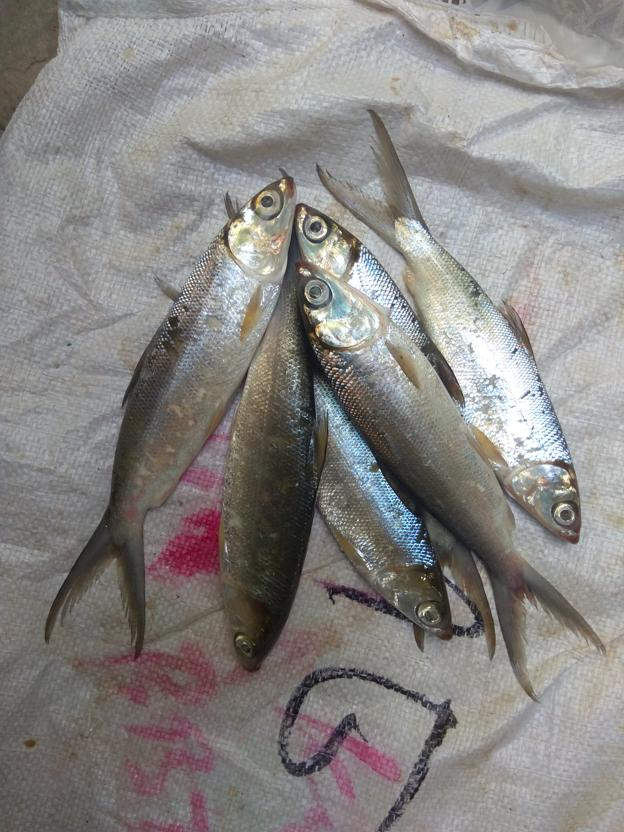Fish head: (218, 175, 298, 286), (292, 262, 383, 353), (507, 462, 583, 545), (377, 567, 455, 643), (218, 591, 284, 674), (293, 202, 359, 281)
Fish tail: (489, 545, 608, 705), (44, 507, 150, 664), (315, 106, 429, 250), (411, 530, 494, 659)
